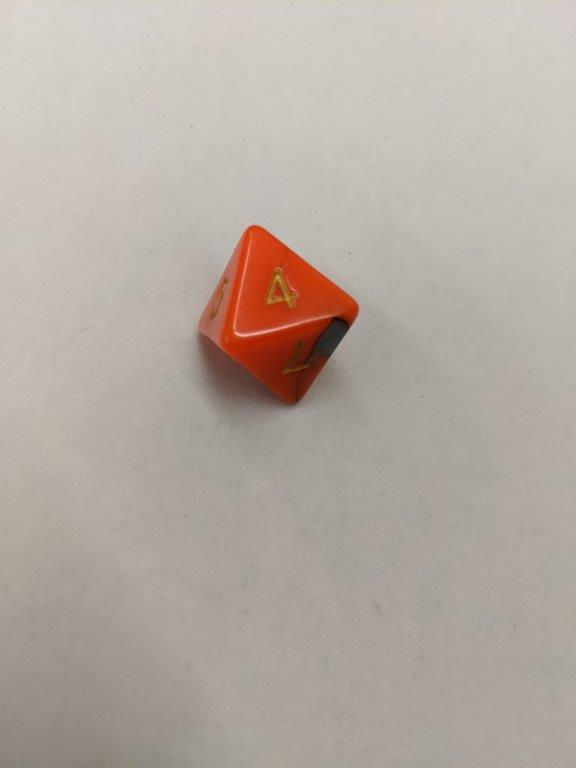d8-4: (195, 223, 361, 409)
